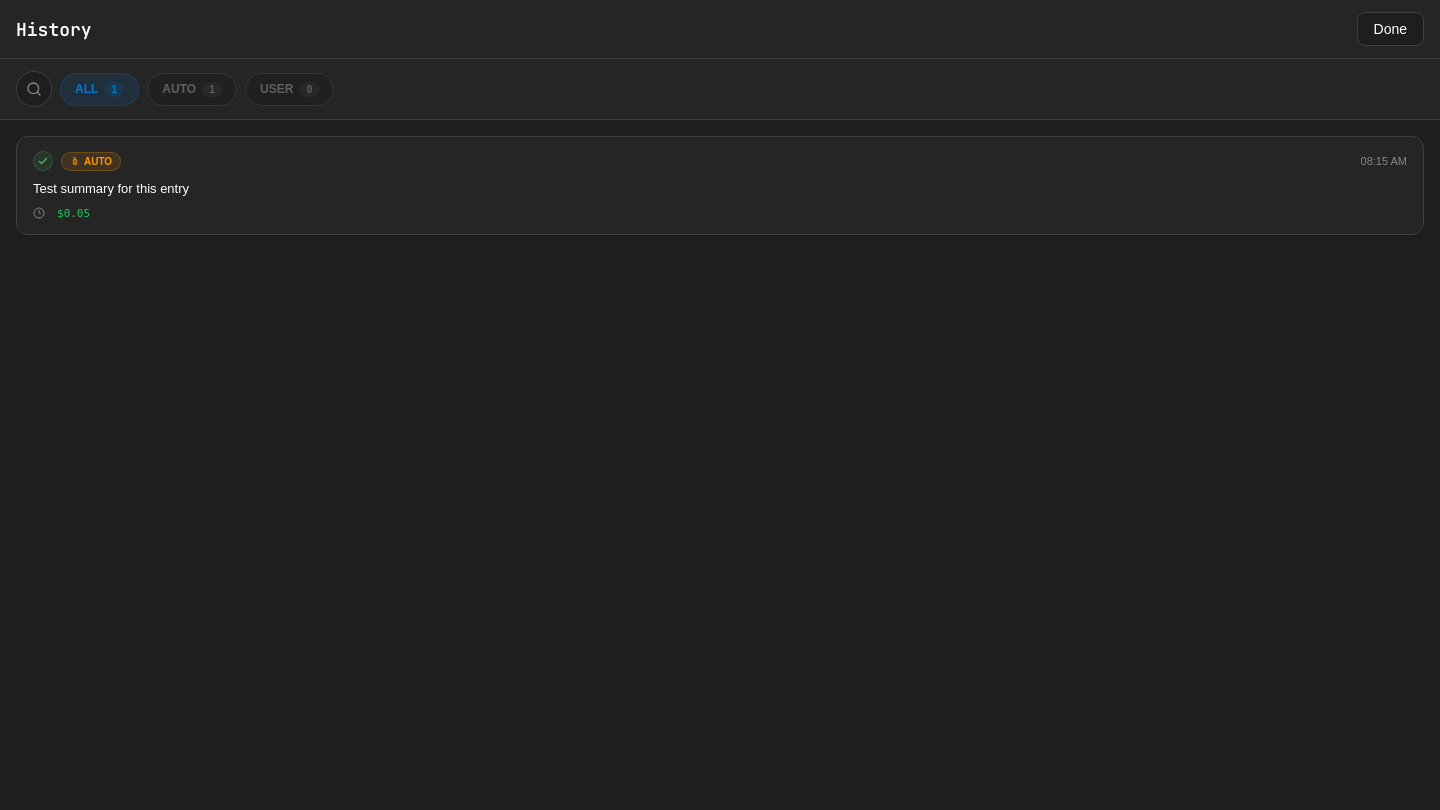
Test: MobileHistoryPanel › Detail view content › shows context usage percentage
Click the button with aria-label "AUTO entry from" at (91, 161), box x1=16 y1=136 x2=1424 y2=234
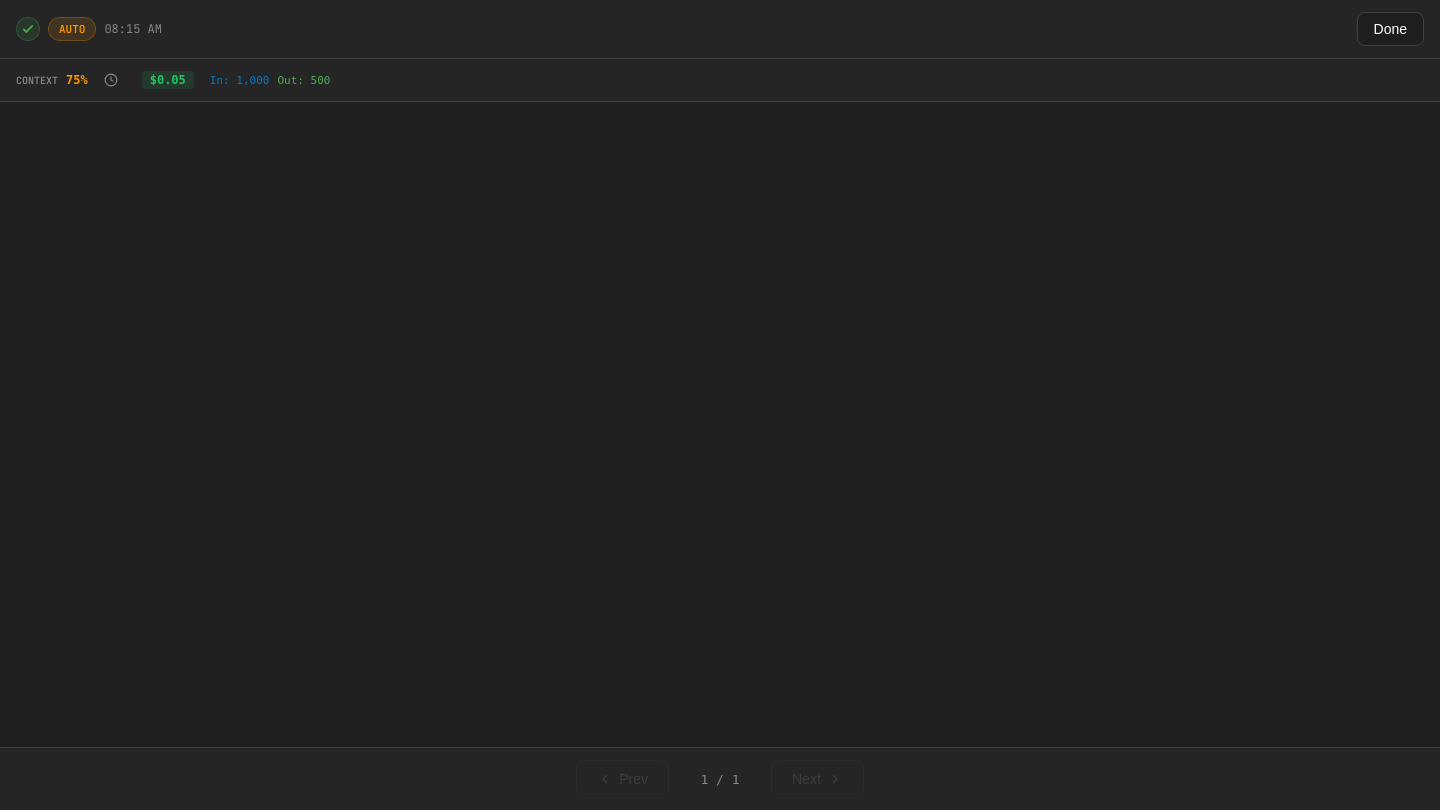
expect the text "75%" is shown: met, box x1=66 y1=73 x2=88 y2=87
